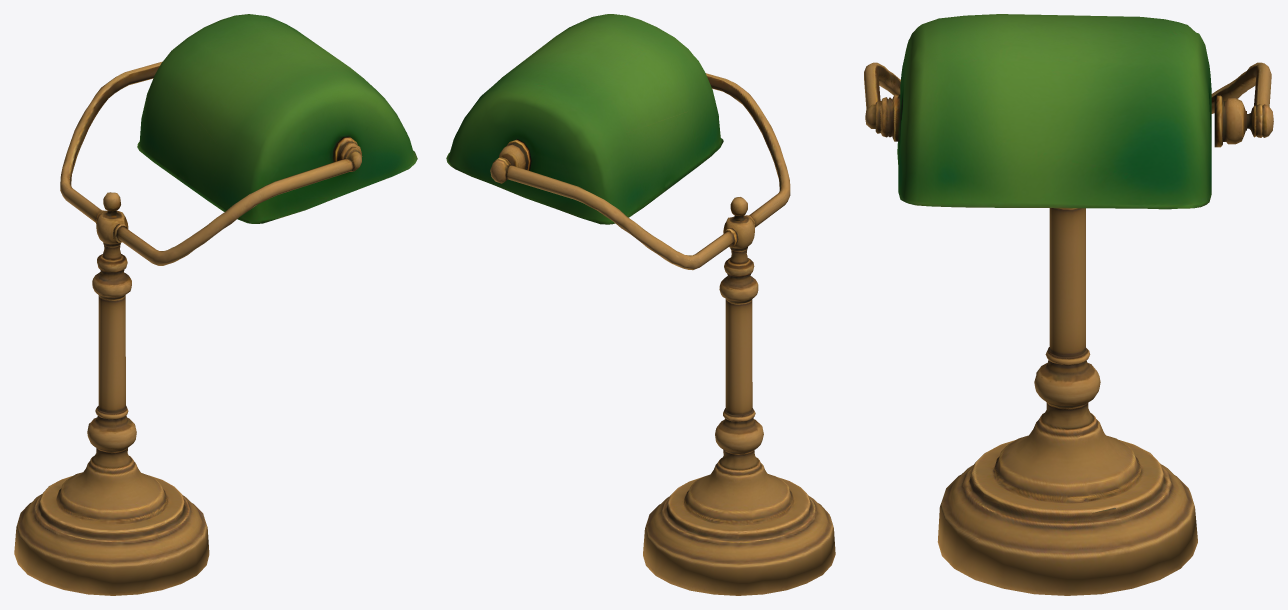
Rendered from lighting-desk-lamp-green.glb.
3 views of the same model, side by side, from view 1: azimuth 30°, elevation 25°; view 2: azimuth 150°, elevation 25°; view 3: azimuth 270°, elevation 25° (orthographic). The views are drawn at different scales.
Parts seen in each view (by area): view 1: tripo_node_97da77ee-07f9-4d70-a084-f48036cc7fa3; view 2: tripo_node_97da77ee-07f9-4d70-a084-f48036cc7fa3; view 3: tripo_node_97da77ee-07f9-4d70-a084-f48036cc7fa3.
Part boxes in pixels (bbox=[...]): tripo_node_97da77ee-07f9-4d70-a084-f48036cc7fa3: bbox=[14, 14, 417, 595]; tripo_node_97da77ee-07f9-4d70-a084-f48036cc7fa3: bbox=[446, 14, 835, 595]; tripo_node_97da77ee-07f9-4d70-a084-f48036cc7fa3: bbox=[864, 14, 1273, 595].
Size of the model in its own units: 0.3 by 0.4 by 0.24.
1 material, 1 textured.
